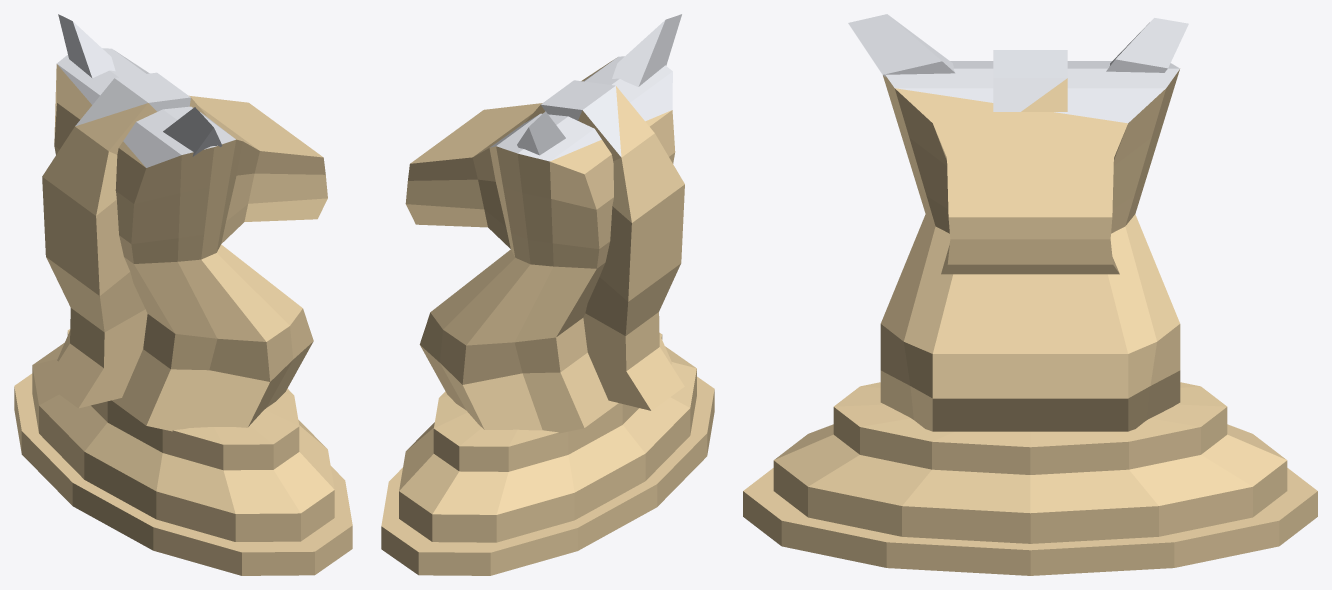
Rendered from lowpoly_n_w.glb.
3 views of the same model, side by side, from view 1: azimuth 30°, elevation 25°; view 2: azimuth 150°, elevation 25°; view 3: azimuth 270°, elevation 25° (orthographic). The views are drawn at different scales.
Parts seen in each view (by area): view 1: x; view 2: x; view 3: x.
Part boxes in pixels (<box>): x: <box>14,14,352,575</box>; x: <box>381,14,714,575</box>; x: <box>743,14,1317,575</box>.
Bounding box in the file's own units: 0.5061 × 0.9 × 0.9891.
